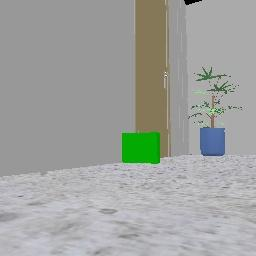planta: (188, 67, 241, 155)
verde: (122, 132, 160, 162)
